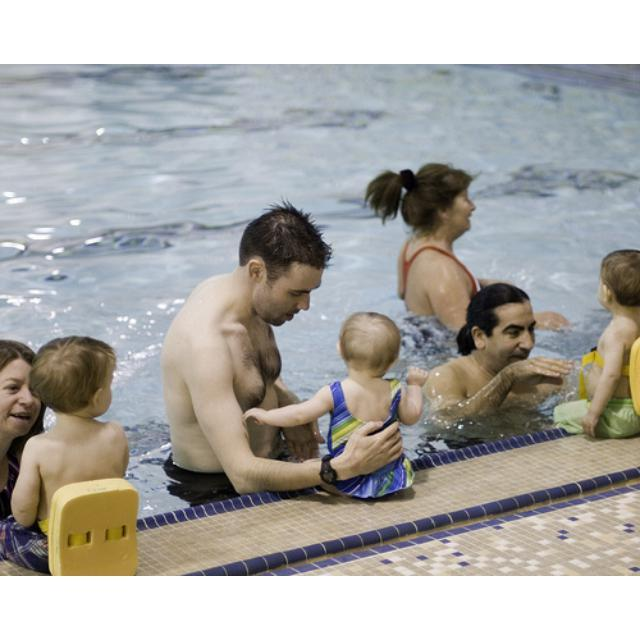human: (166, 203, 332, 501), (1, 339, 145, 564), (262, 309, 428, 495), (424, 287, 564, 426), (376, 161, 484, 338), (569, 246, 639, 449)
